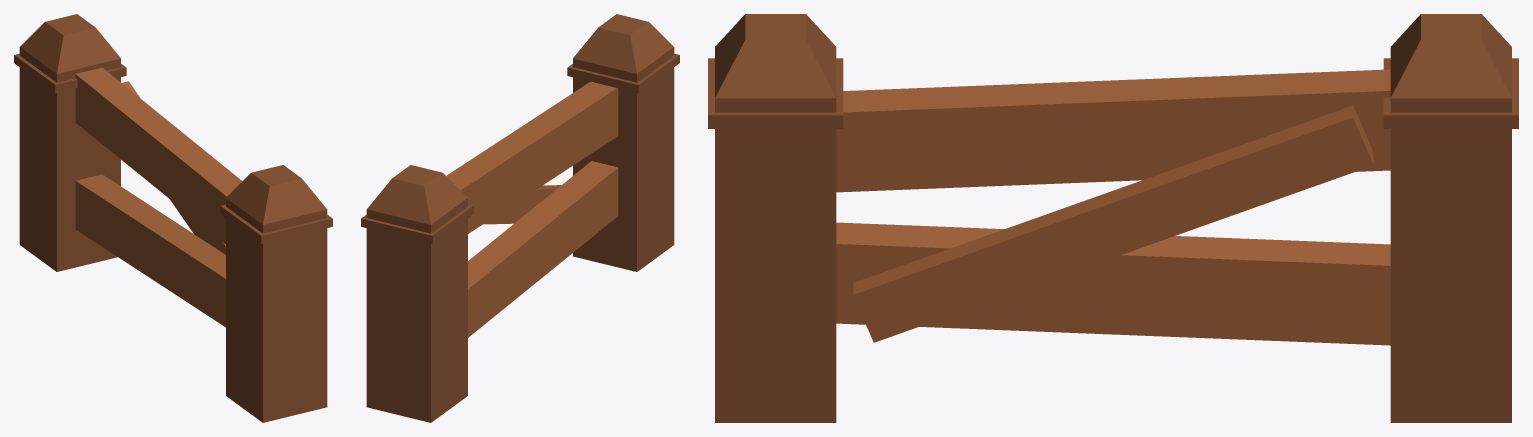
File: w1_fences.fbx
3 renders of one model, left to right at view 1: azimuth 30°, elevation 25°; view 2: azimuth 150°, elevation 25°; view 3: azimuth 270°, elevation 25°, orthographic. The views are drawn at different scales.
Parts seen in each view (by area): view 1: Fence.Posts, Fence.Rails; view 2: Fence.Posts, Fence.Rails; view 3: Fence.Rails, Fence.Posts.
Boxes of the visible parts, x1,y1,x2,y2 form: Fence.Posts: (14,14,332,422); Fence.Rails: (75,67,242,327); Fence.Posts: (361,14,679,422); Fence.Rails: (446,81,618,337); Fence.Rails: (836,69,1390,345); Fence.Posts: (708,14,1518,422).
Bounding box in the file's own units: 2 × 6.05 × 12.
